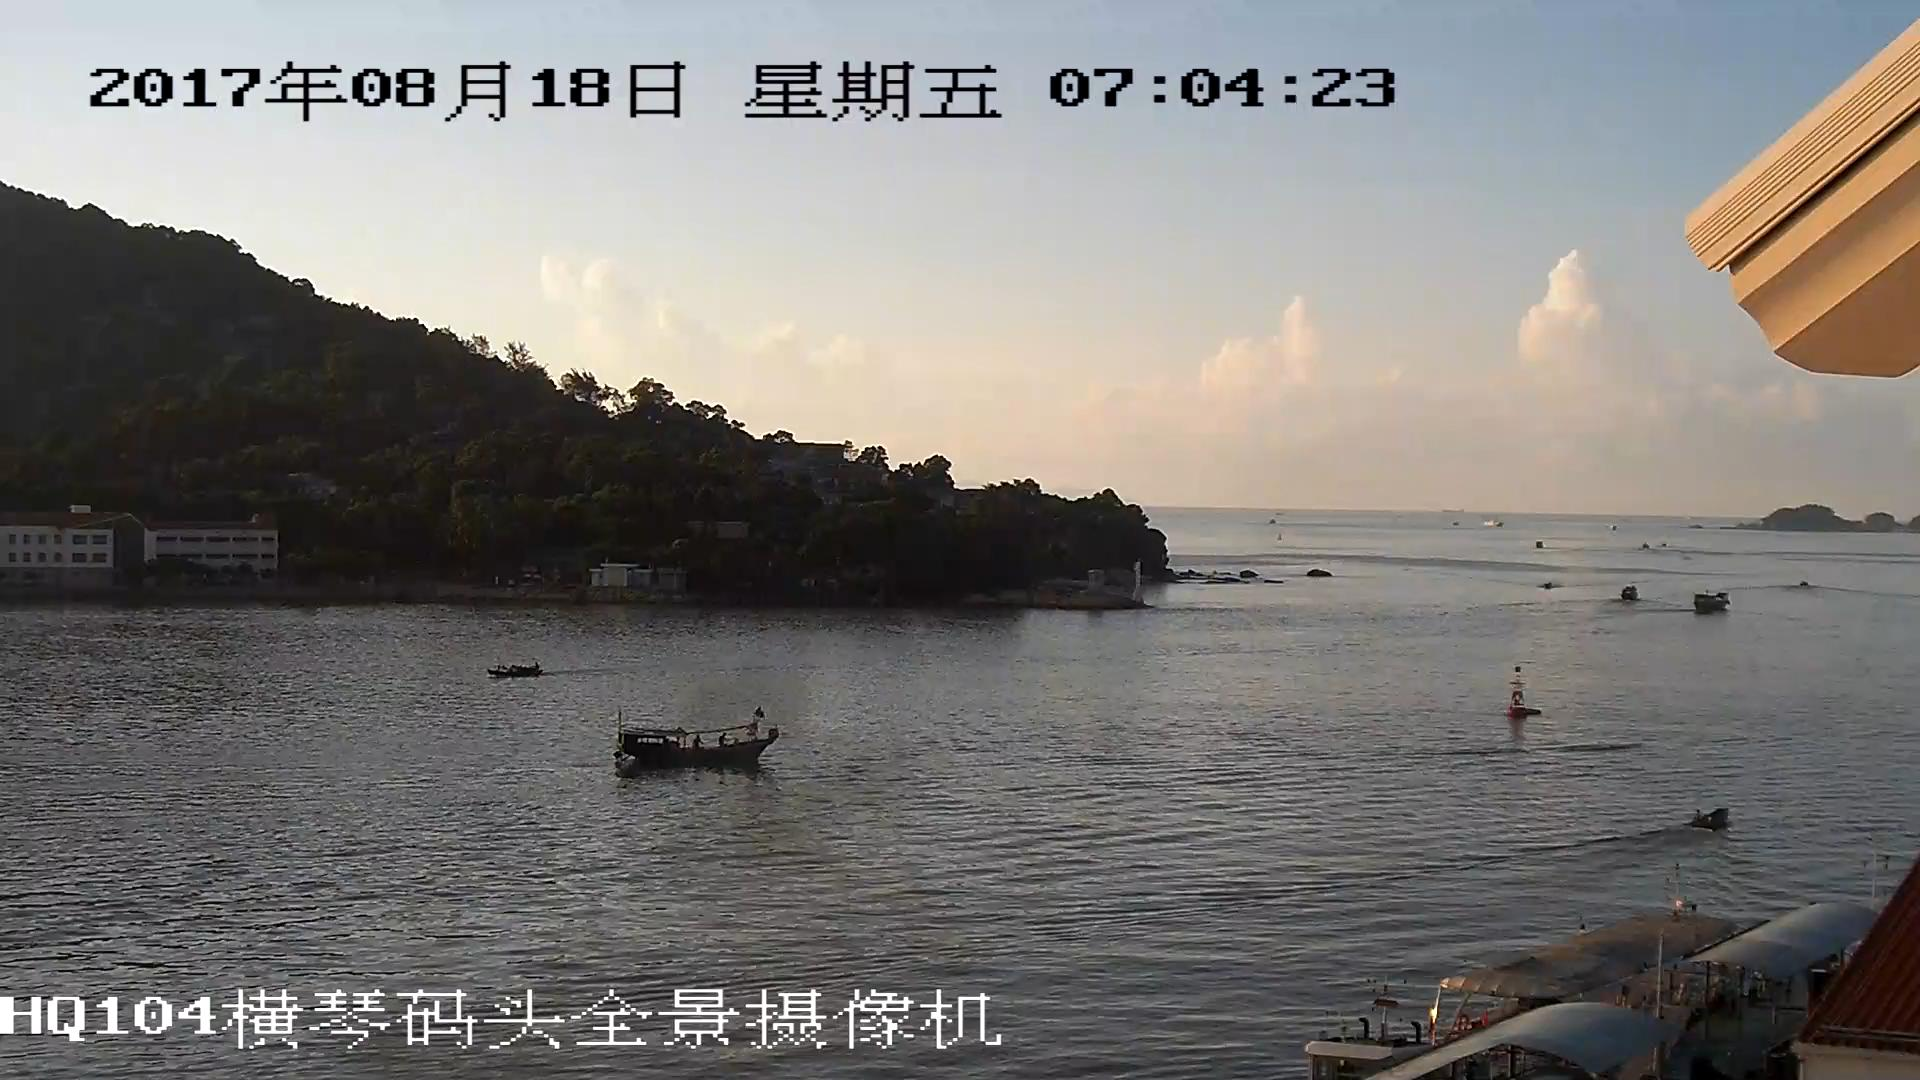fishing boat: (611, 713, 782, 765), (486, 661, 545, 677)
